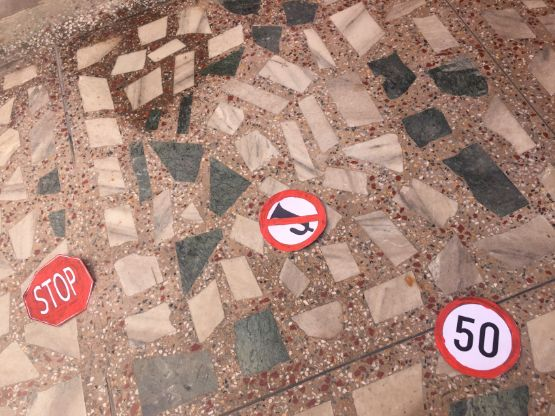no-horn: (260, 190, 325, 251)
speed-50: (436, 296, 522, 378)
stop: (23, 257, 93, 325)
